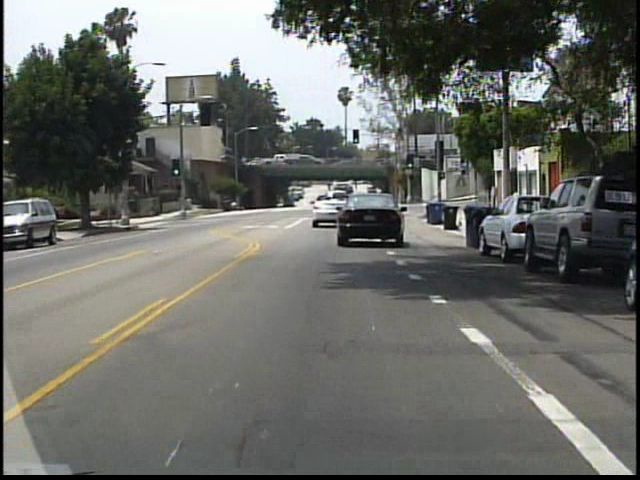person: (58, 200, 72, 232)
